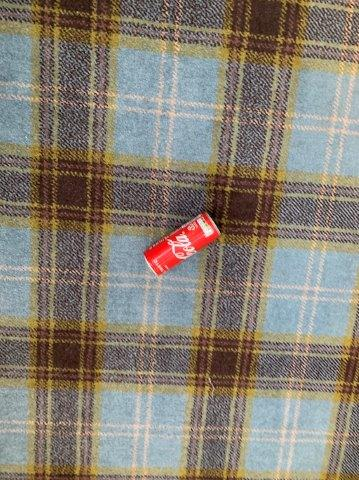kaleng: (145, 213, 221, 277)
